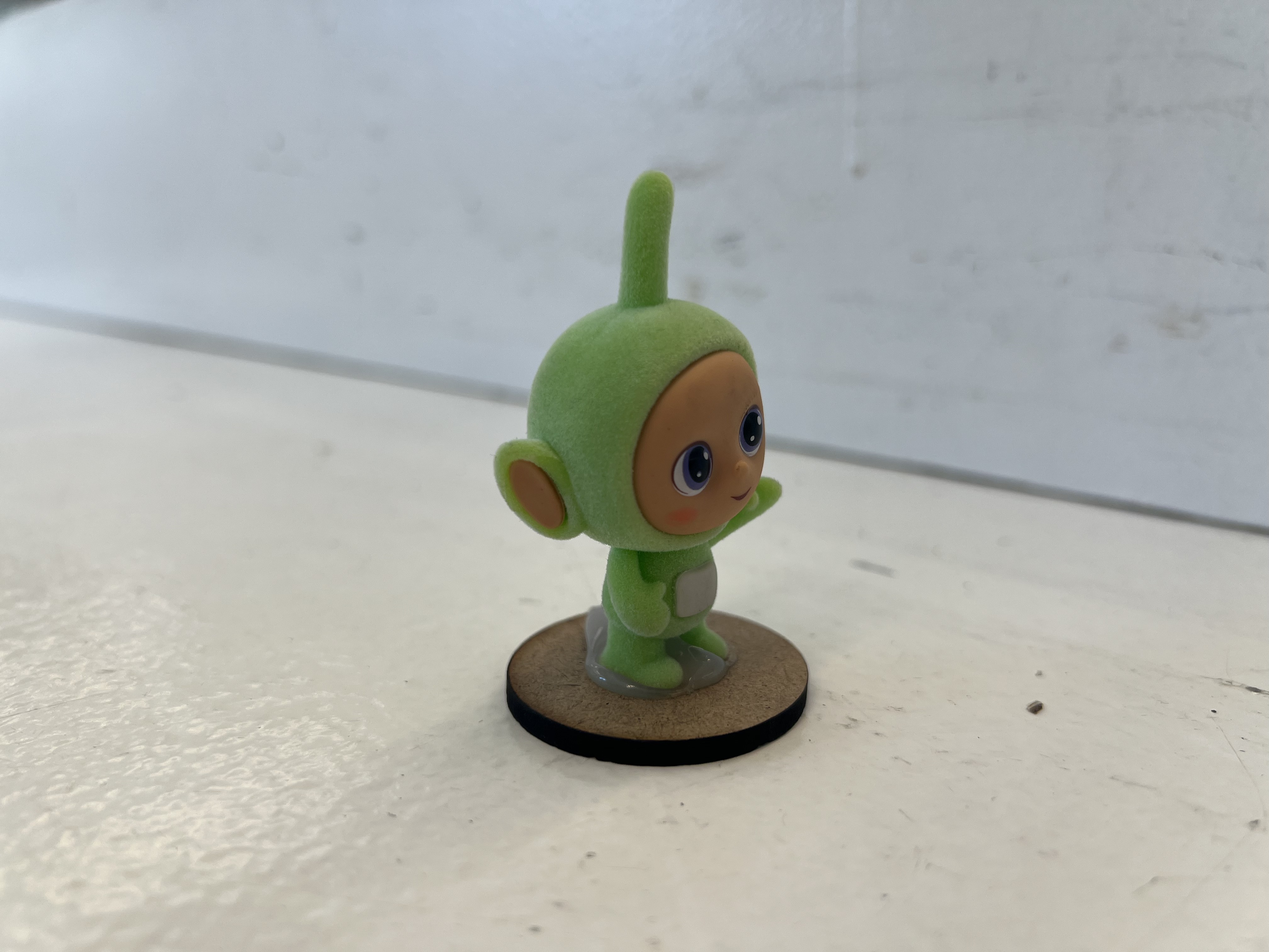teletubby: (495, 172, 782, 691)
